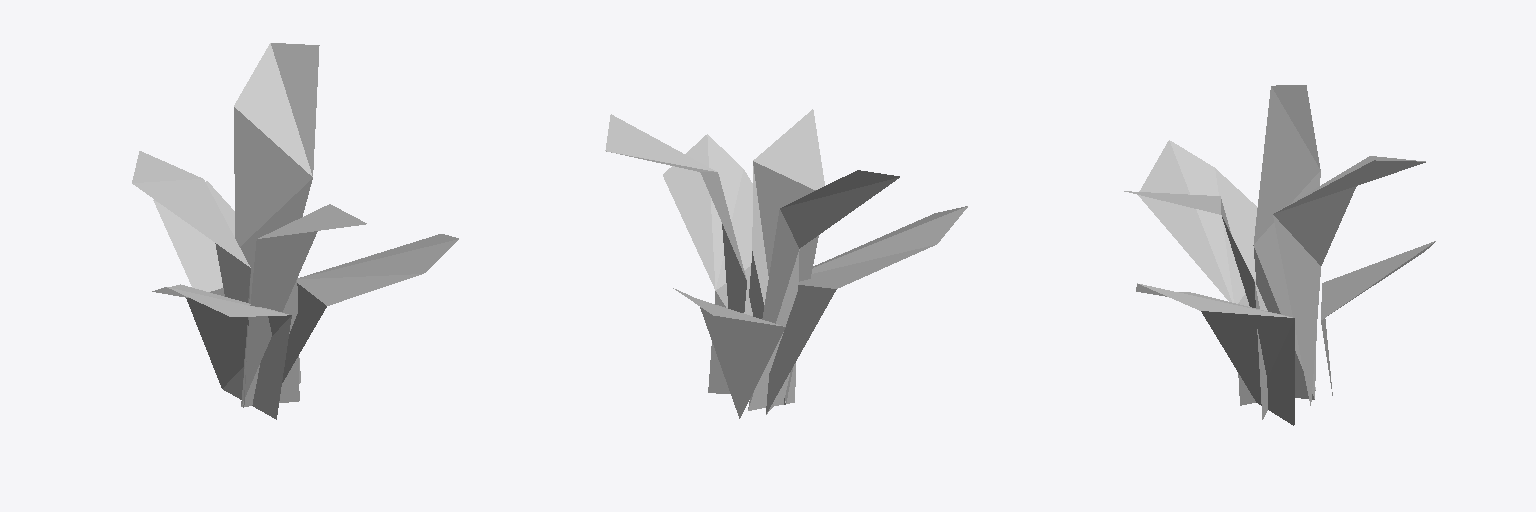
File: Jungle_leaves_LOD2.obj
3 views of the same model, side by side, from view 1: azimuth 30°, elevation 25°; view 2: azimuth 150°, elevation 25°; view 3: azimuth 270°, elevation 25° (orthographic).
Visible parts, largest first — view 1: Jungle_Leaves_LOD2_Plane.009; view 2: Jungle_Leaves_LOD2_Plane.009; view 3: Jungle_Leaves_LOD2_Plane.009.
Part boxes in pixels (x1,y1,x2,y2): Jungle_Leaves_LOD2_Plane.009: (132, 43, 458, 419); Jungle_Leaves_LOD2_Plane.009: (605, 109, 967, 418); Jungle_Leaves_LOD2_Plane.009: (1124, 85, 1435, 425).
Size of the model in its own units: 4.33 by 4.24 by 4.06.